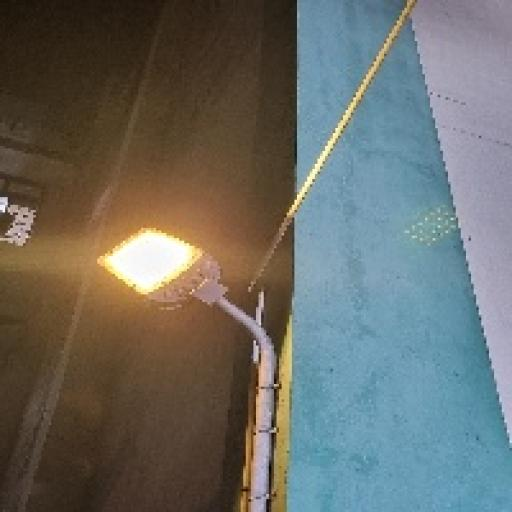Working: (90, 221, 232, 315)
